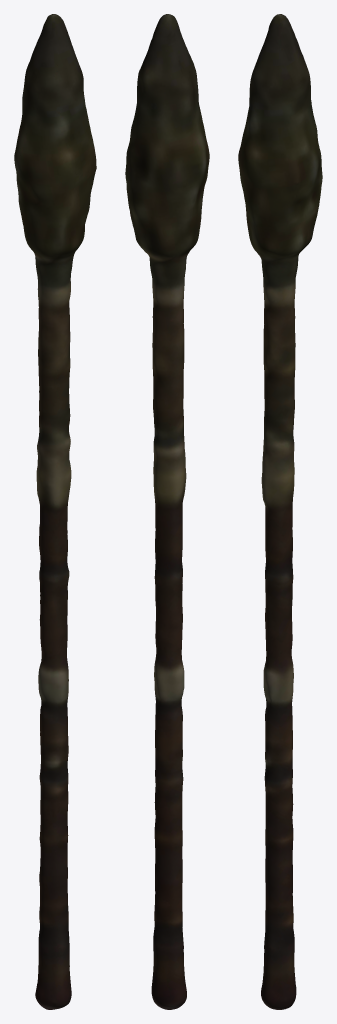
File: 5048e59924b7_rock_spear__3d_asse.fbx
3 renders of one model, left to right at view 1: azimuth 30°, elevation 25°; view 2: azimuth 150°, elevation 25°; view 3: azimuth 330°, elevation 25°, orthographic.
Visible parts, largest first — view 1: high_poly; view 2: high_poly; view 3: high_poly.
Part boxes in pixels (left/top/right/bottom): high_poly: left=14, top=14, right=96, bottom=1009; high_poly: left=125, top=14, right=209, bottom=1009; high_poly: left=238, top=14, right=322, bottom=1009.
Bounding box in the file's own units: 7.73 × 100 × 6.95.
